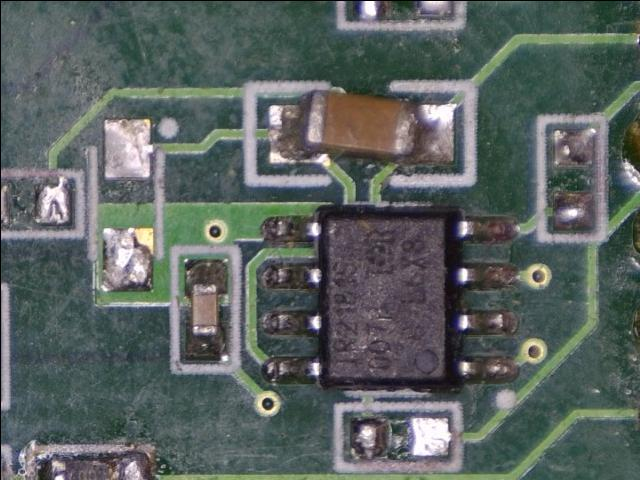Incorrect_installation: (267, 90, 456, 166)
